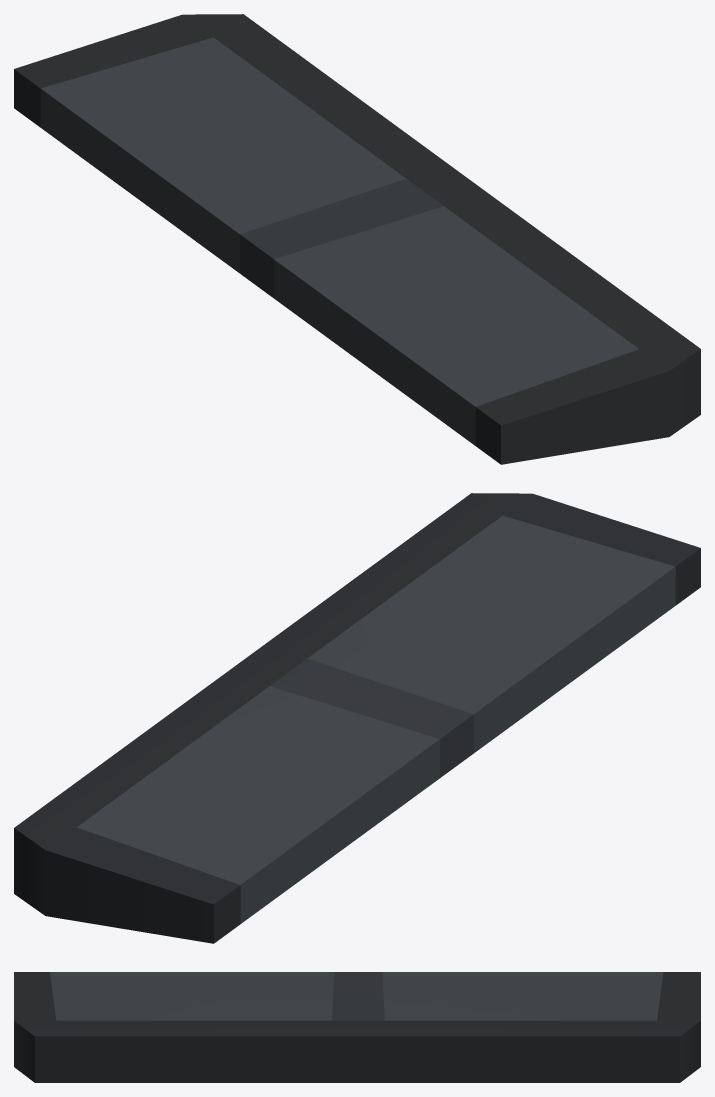
Rendered from SM_Prop_Comb_01.fbx.
3 renders of one model, top to bottom at view 1: azimuth 30°, elevation 25°; view 2: azimuth 150°, elevation 25°; view 3: azimuth 270°, elevation 25°, orthographic. The views are drawn at different scales.
Parts seen in each view (by area): view 1: SM_Prop_Comb_01; view 2: SM_Prop_Comb_01; view 3: SM_Prop_Comb_01.
Boxes of the visible parts, x1,y1,x2,y2 form: SM_Prop_Comb_01: (14, 14, 700, 464); SM_Prop_Comb_01: (14, 493, 700, 943); SM_Prop_Comb_01: (14, 972, 700, 1082).
Size of the model in its own units: 7.26 by 2.13 by 28.51.
